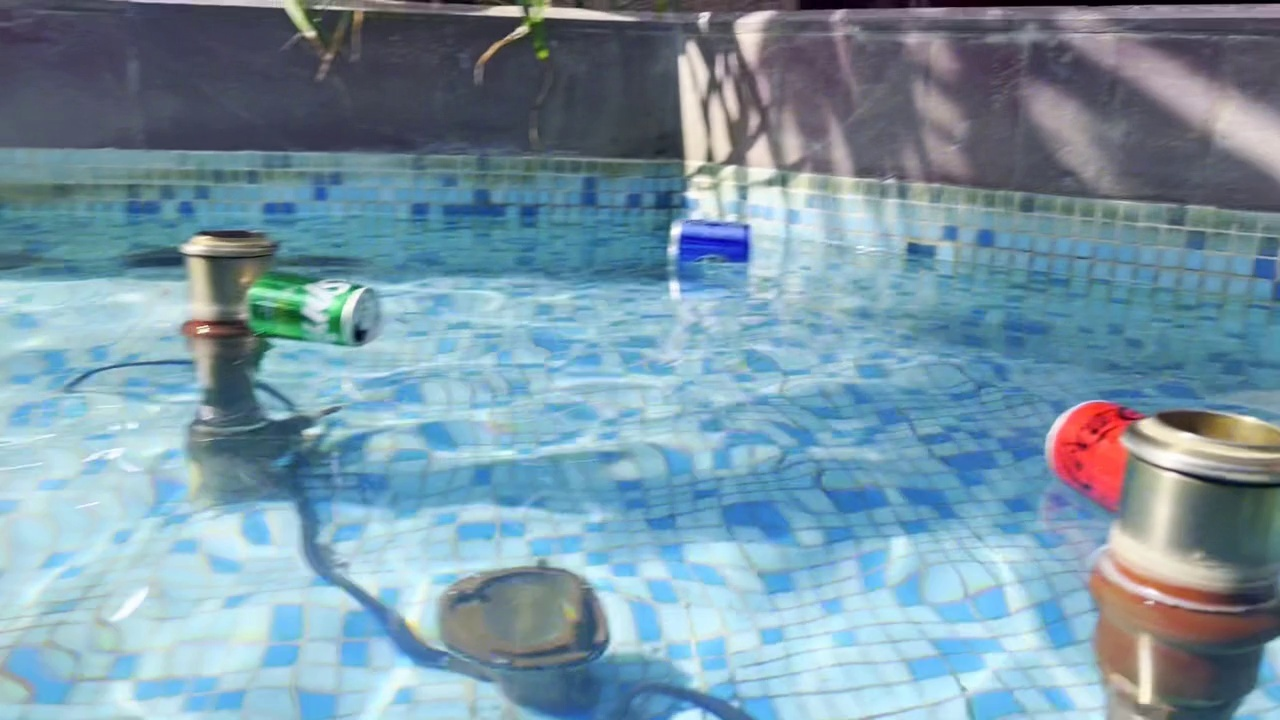debris: (1031, 390, 1208, 527), (227, 252, 389, 355), (656, 208, 759, 276)
